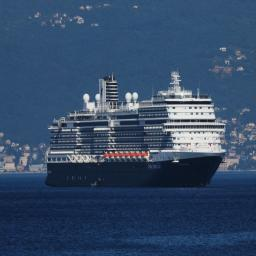cruises: (45, 69, 231, 192)
